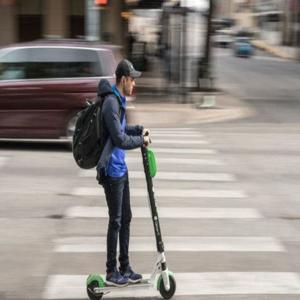human on a scooter: (72, 59, 177, 300)
